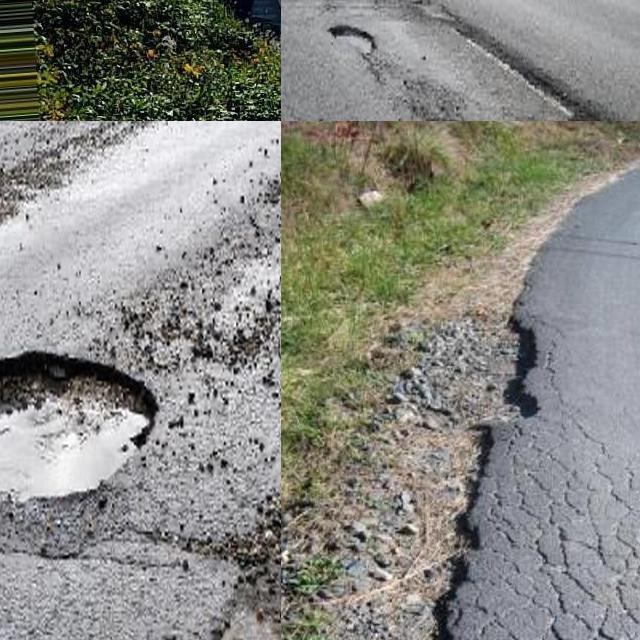Lubang: (0, 350, 165, 511), (328, 24, 374, 51)
Pinggir: (307, 299, 601, 640)
Retak Buaya: (464, 421, 640, 640)
